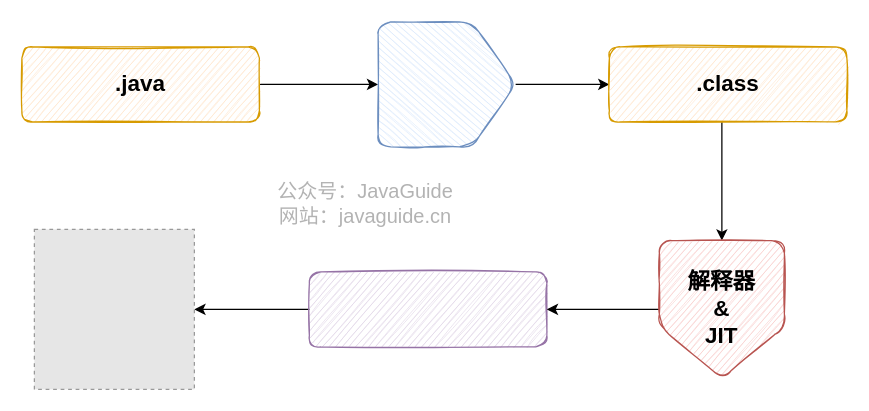
Image size: 869x411. Some labels were removed from this diagram. Grey dashed boxes stand in for pictures. Here are the shapes that lost their labels. From the top down, the centre of each, then its label:
At point 446,84: "javac 编译".
At point 427,309: "机器可理解的代码".
